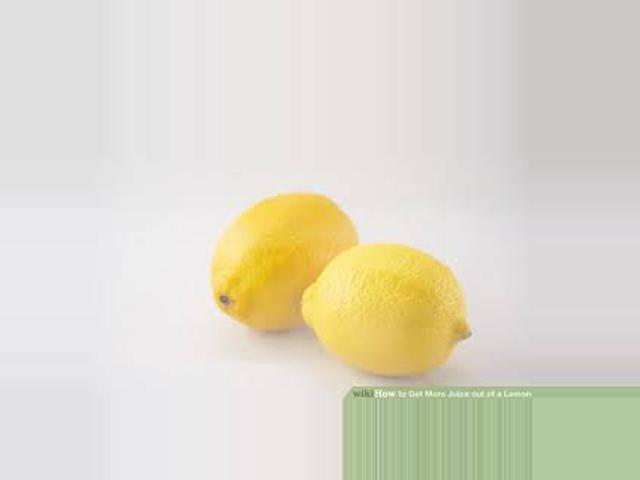lemon: (203, 187, 348, 318)
